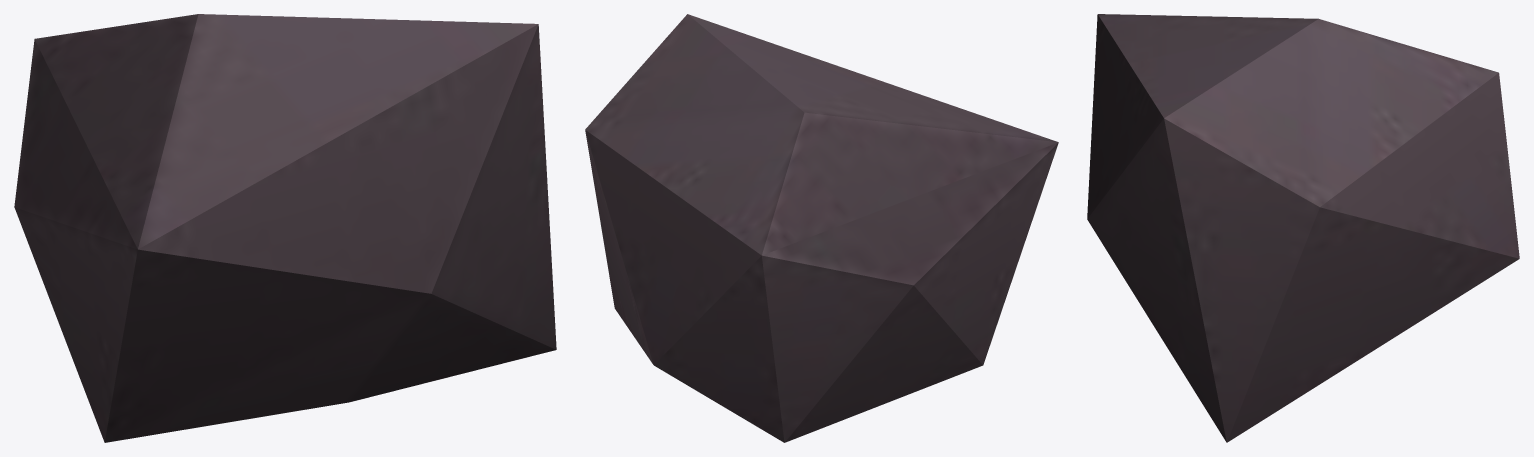
Rendered from metallic-asteroid-chunk.glb.
The picture shows the model from 3 angles, left to right: view 1: azimuth 30°, elevation 25°; view 2: azimuth 150°, elevation 25°; view 3: azimuth 270°, elevation 25°; orthographic projection. The views are drawn at different scales.
Parts seen in each view (by area): view 1: metallic-asteroid-chunk; view 2: metallic-asteroid-chunk; view 3: metallic-asteroid-chunk.
Part boxes in pixels (box(x1,y1,x2,y2)): metallic-asteroid-chunk: box(14, 14, 556, 442); metallic-asteroid-chunk: box(585, 14, 1058, 442); metallic-asteroid-chunk: box(1087, 14, 1519, 442).
Bounding box in the file's own units: 0.24 × 0.17 × 0.22.
1 material, 1 textured.
